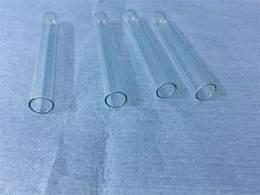Test tube: (134, 5, 217, 105), (28, 8, 60, 140), (93, 7, 123, 124)
